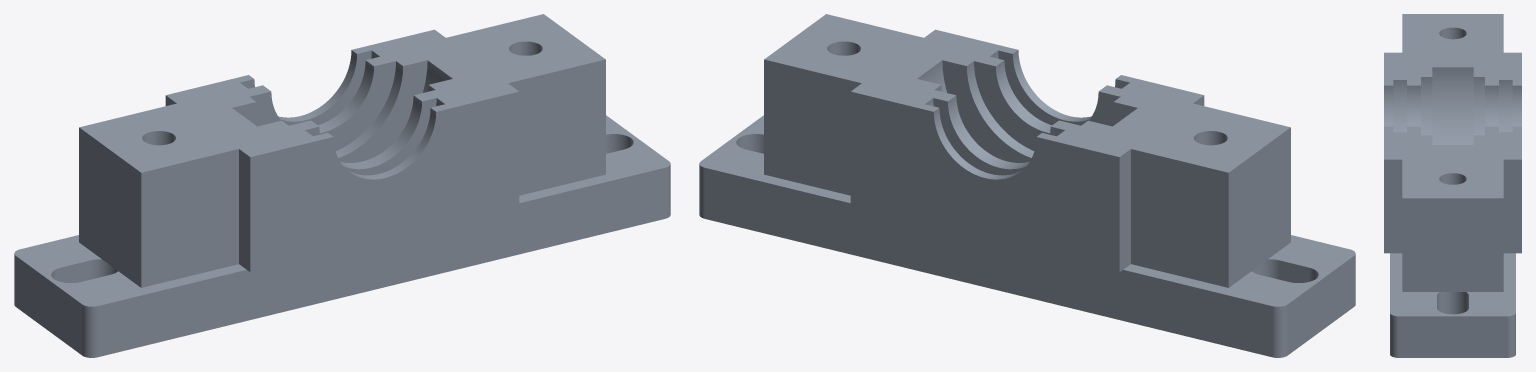
The model's file is step_20.glb.
The picture shows the model from 3 angles, left to right: view 1: azimuth 30°, elevation 25°; view 2: azimuth 150°, elevation 25°; view 3: azimuth 270°, elevation 25°; orthographic projection. The views are drawn at different scales.
Parts seen in each view (by area): view 1: part__housing base; view 2: part__housing base; view 3: part__housing base.
Boxes of the visible parts, left/top/right/bottom form: part__housing base: left=14, top=14, right=670, bottom=357; part__housing base: left=699, top=14, right=1355, bottom=357; part__housing base: left=1384, top=14, right=1521, bottom=357.
Bounding box in the file's own units: 240 × 65 × 60.
